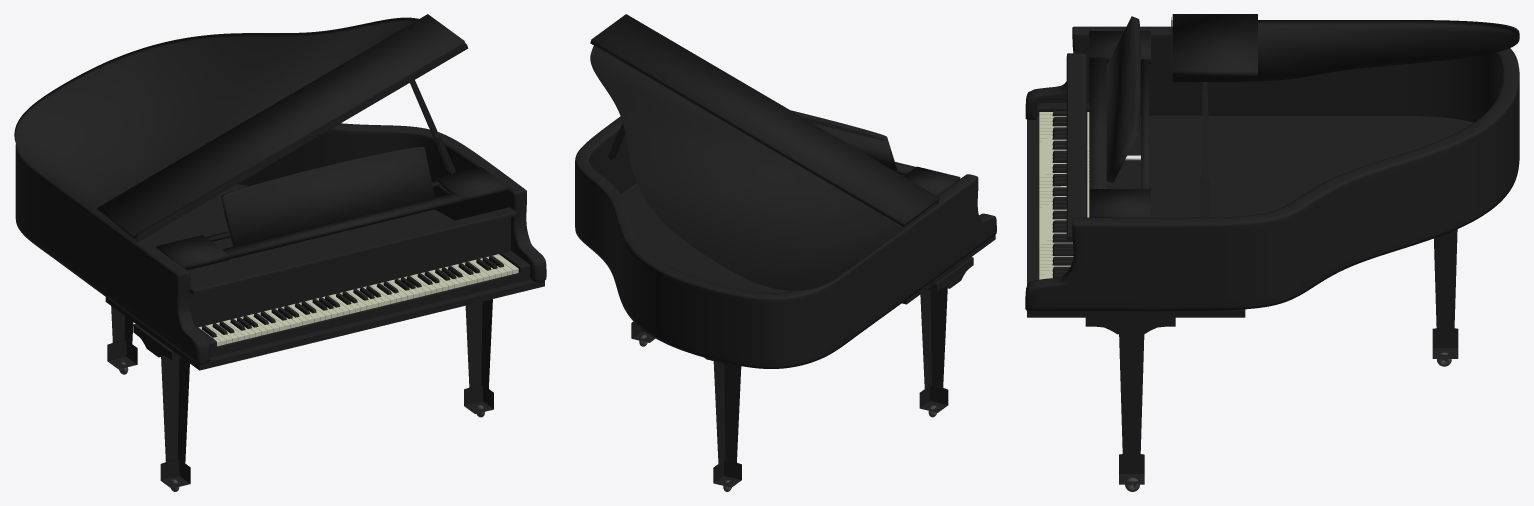
File: GrandPiano.fbx
3 views of the same model, side by side, from view 1: azimuth 30°, elevation 25°; view 2: azimuth 150°, elevation 25°; view 3: azimuth 270°, elevation 25° (orthographic). The views are drawn at different scales.
Parts seen in each view (by area): view 1: Tapa, Perfil, Cube.004, Faristol, Perfil.001, TeclaBlanca, Cube.003, Cube.002, Pota.002, TeclesNegres, Cube.007, Pota (+5 smaller); view 2: Tapa, Perfil, Perfil.001, Pota.001, Pota.002, Faristol, Cube.005, SuportPotes, Cube.003; view 3: Perfil, Perfil.001, Tapa, Faristol, Cube.004, Pota, Cube.003, TeclaBlanca, Pota.001, TeclesNegres, Cube.007, Cube.006 (+5 smaller).
Part boxes in pixels (x1,y1,x2,y2): Tapa: (14,14,468,243); Perfil: (15,123,546,364); Cube.004: (190,207,516,327); Faristol: (221,147,434,246); Perfil.001: (144,184,453,284); TeclaBlanca: (198,254,518,346); Cube.003: (105,279,544,370); Cube.002: (196,251,530,357); Pota.002: (160,356,190,488); TeclesNegres: (202,255,503,337); Cube.007: (222,192,461,259); Pota: (464,299,493,413); Tapa: (590,14,939,290); Perfil: (575,116,996,368); Perfil.001: (621,183,790,292); Pota.001: (713,361,741,487); Pota.002: (919,287,948,412); Faristol: (791,110,897,171); Cube.005: (903,166,960,195); SuportPotes: (927,257,973,291); Cube.003: (902,235,995,304); Perfil: (1025,26,1519,311); Perfil.001: (1106,115,1473,217); Tapa: (1171,14,1519,82); Faristol: (1106,16,1140,183); Cube.004: (1066,53,1087,241); Pota: (1119,334,1144,484); Cube.003: (1027,119,1245,317); TeclaBlanca: (1039,112,1089,279); Pota.001: (1432,229,1458,358); TeclesNegres: (1052,111,1073,277); Cube.007: (1089,57,1106,188); Cube.006: (1089,189,1150,217).
Bounding box in the file's own units: 157 × 155 × 164.
